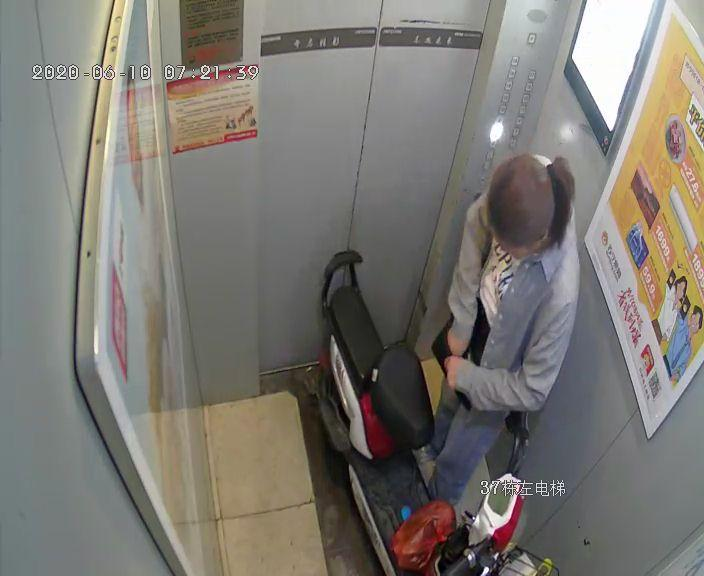Electric-bicycle: (323, 250, 529, 567)
